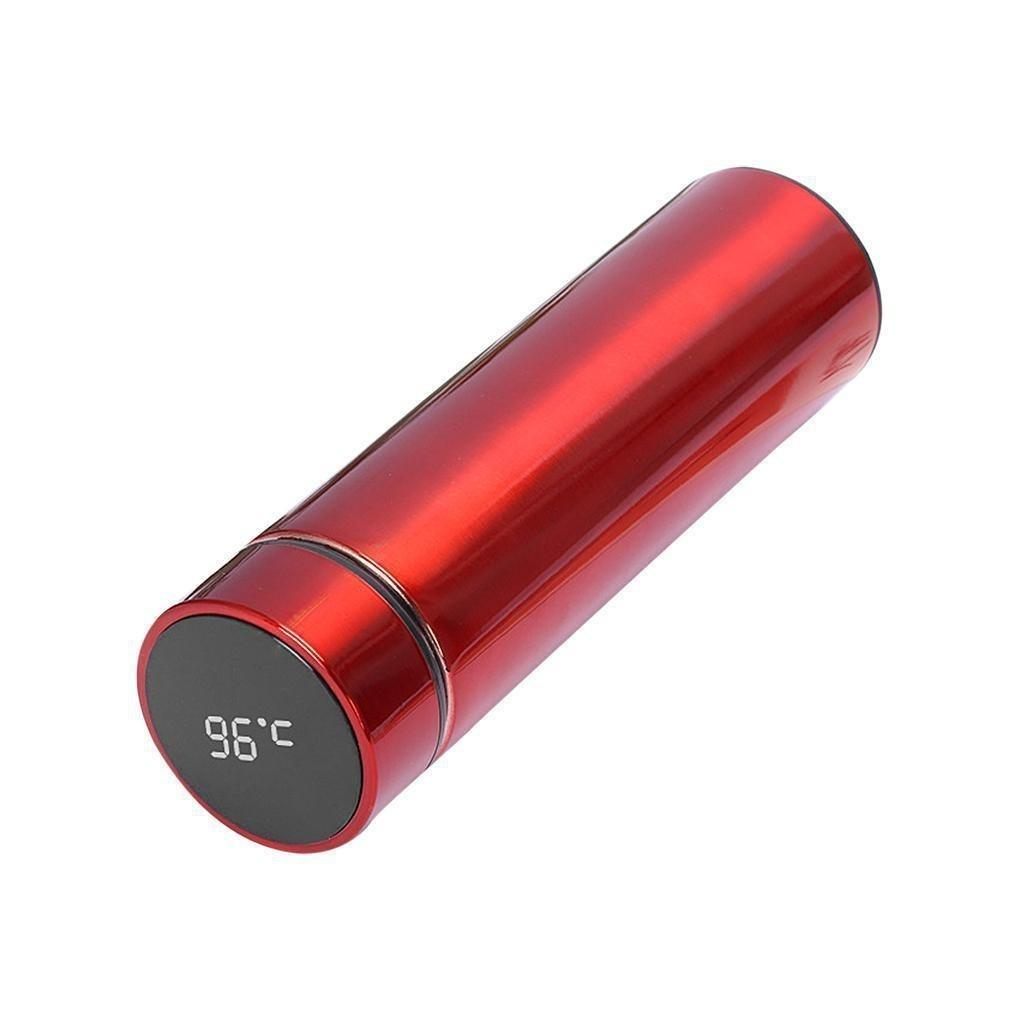gym bottle: (133, 161, 885, 860)
